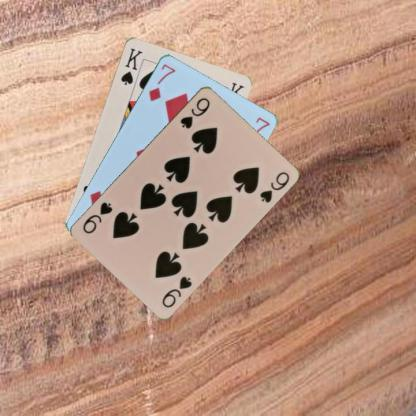7d: (146, 61, 176, 103)
9s: (159, 273, 194, 309), (178, 95, 212, 130)
Ks: (118, 44, 144, 86)
